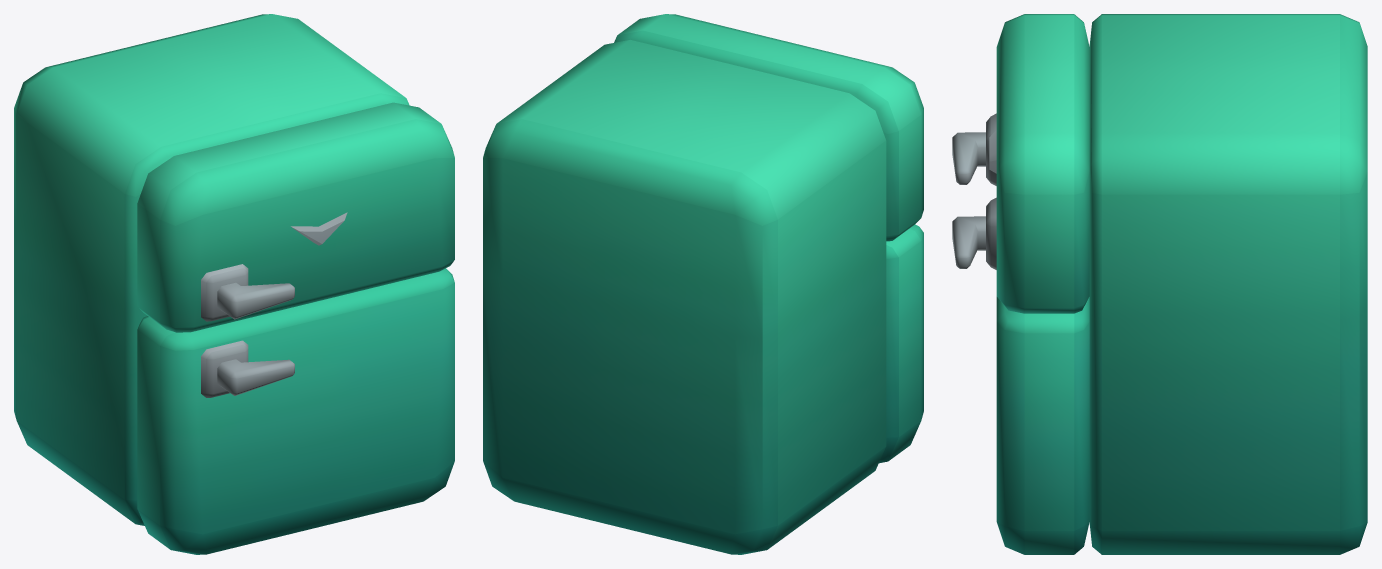
Rendered from kay-geladeira.gltf.
3 renders of one model, left to right at view 1: azimuth 30°, elevation 25°; view 2: azimuth 150°, elevation 25°; view 3: azimuth 270°, elevation 25°, orthographic. The views are drawn at different scales.
Visible parts, largest first — view 1: fridge_A_decorated; view 2: fridge_A_decorated; view 3: fridge_A_decorated.
Part boxes in pixels (x1,y1,x2,y2): fridge_A_decorated: (14, 14, 454, 554); fridge_A_decorated: (483, 14, 923, 554); fridge_A_decorated: (952, 14, 1367, 554).
Size of the model in its own units: 1.3 by 1.63 by 1.46.
Materials: 1 (1 with a texture image).
